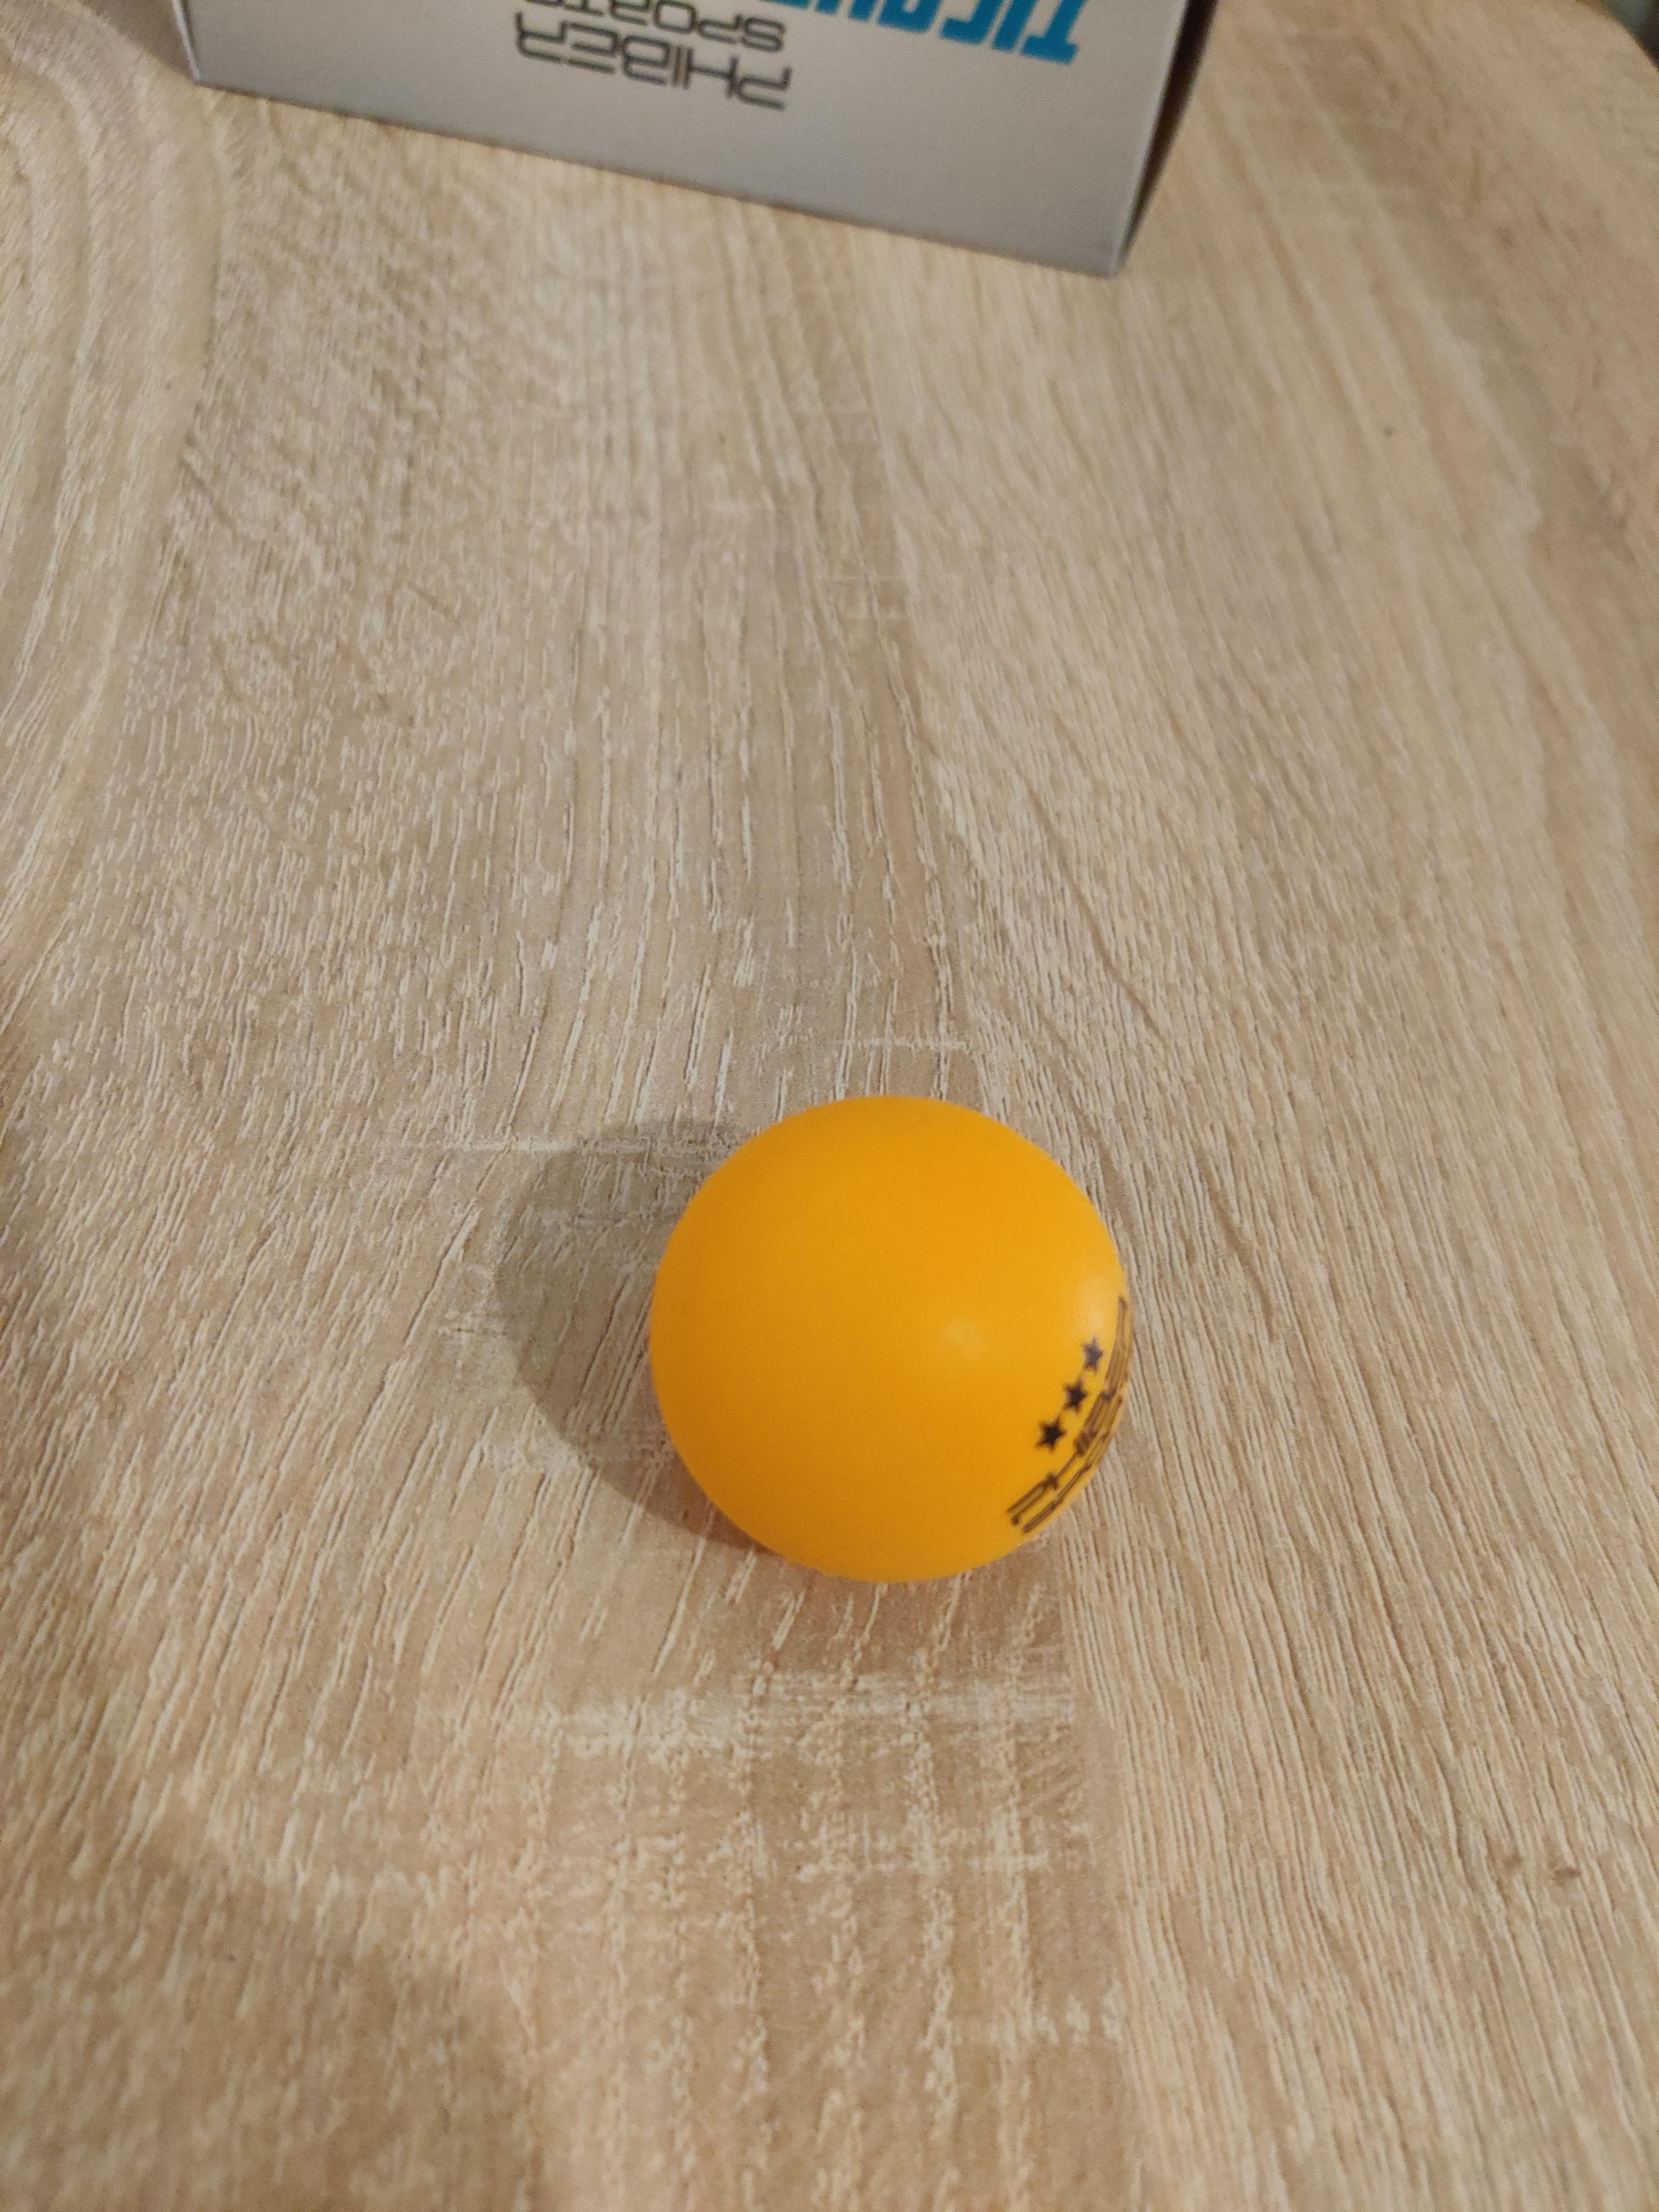orange: (640, 1085, 1145, 1590)
